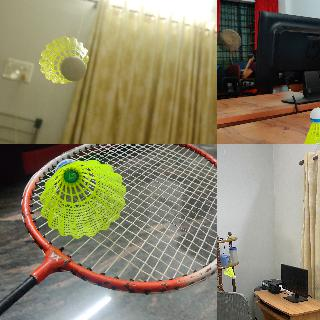shuttlecock: (41, 160, 126, 236), (39, 36, 89, 84), (300, 107, 319, 143), (223, 266, 235, 278)
